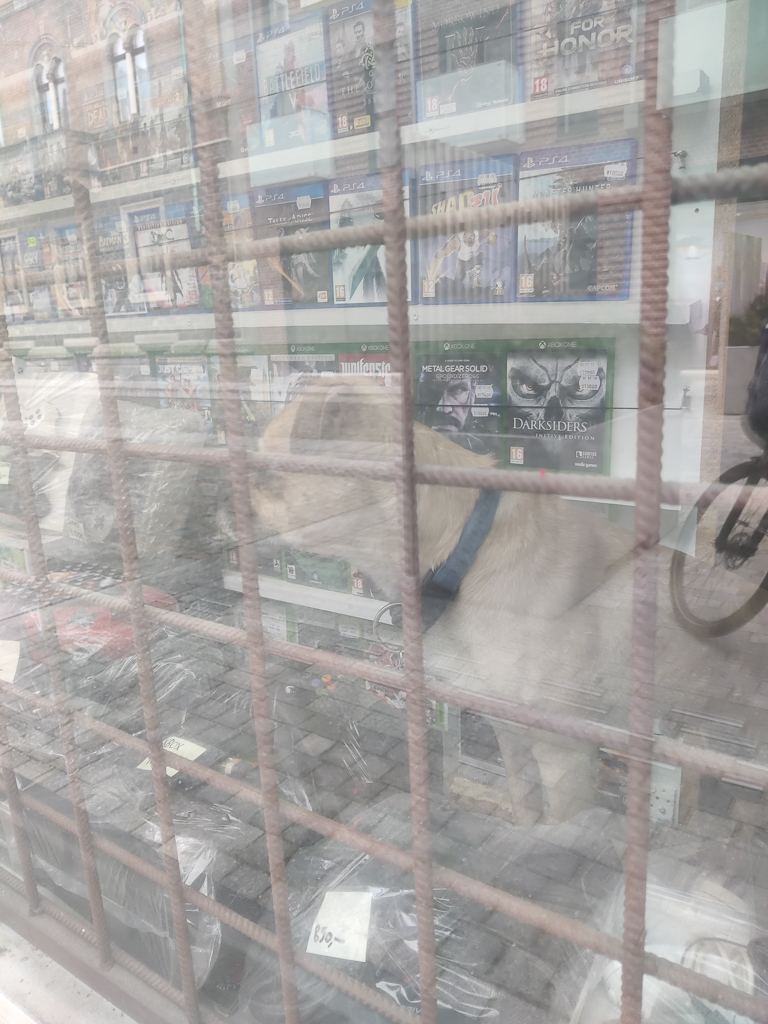Dog: (177, 355, 768, 857)
